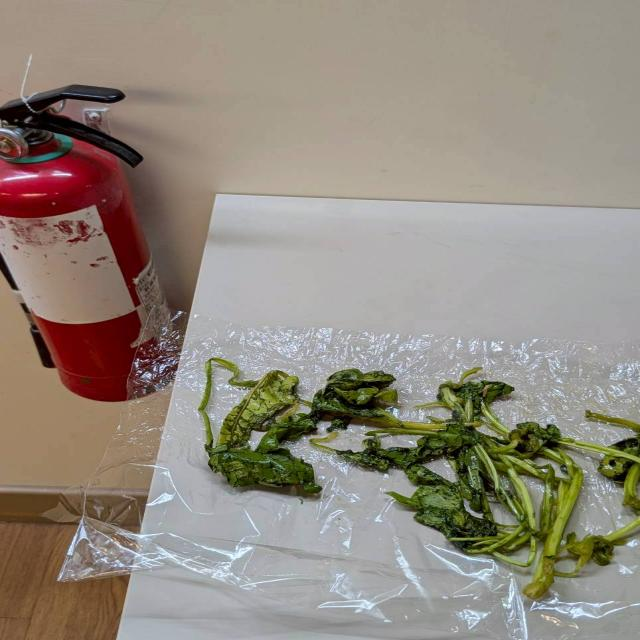rotten spinach: (431, 364, 640, 602), (325, 348, 547, 552), (188, 349, 419, 508)
